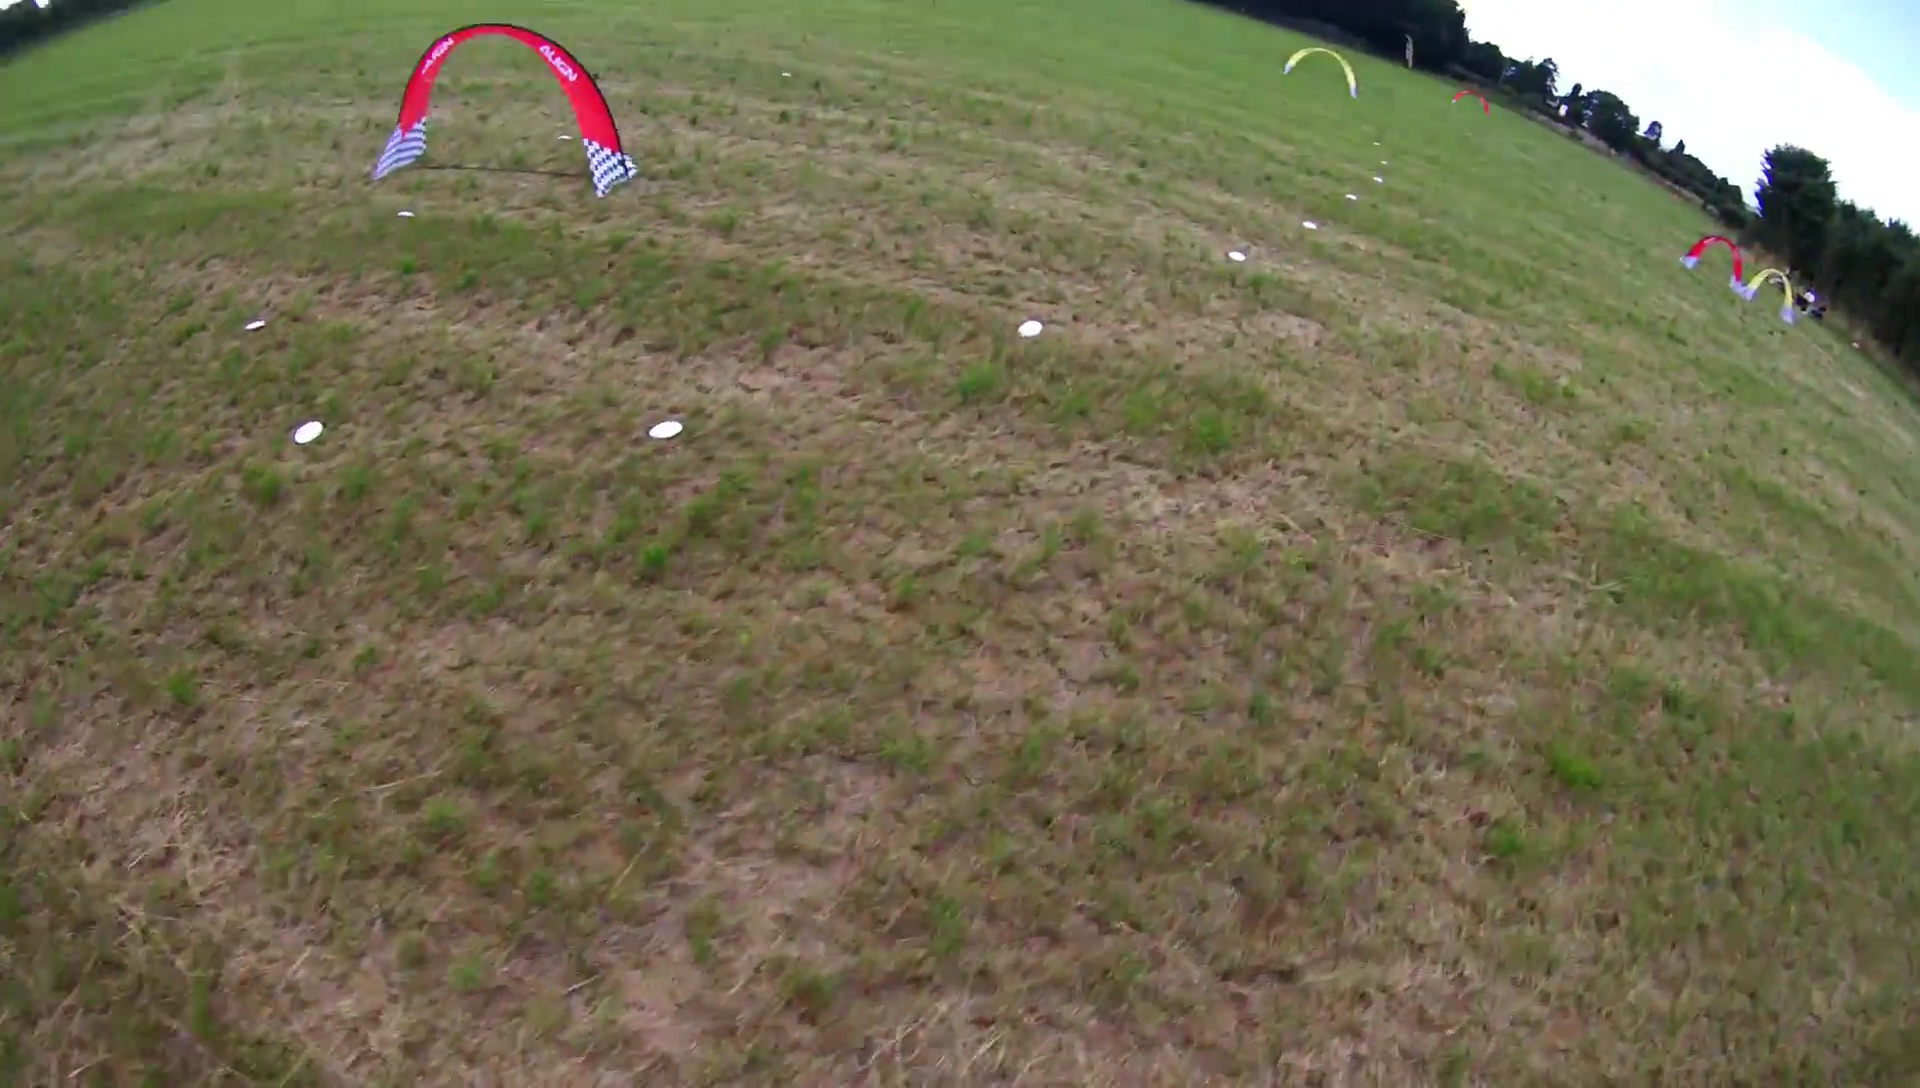gate: (369, 21, 642, 199), (1280, 41, 1362, 102), (1679, 232, 1749, 298), (1743, 265, 1797, 326), (1453, 88, 1491, 117)
